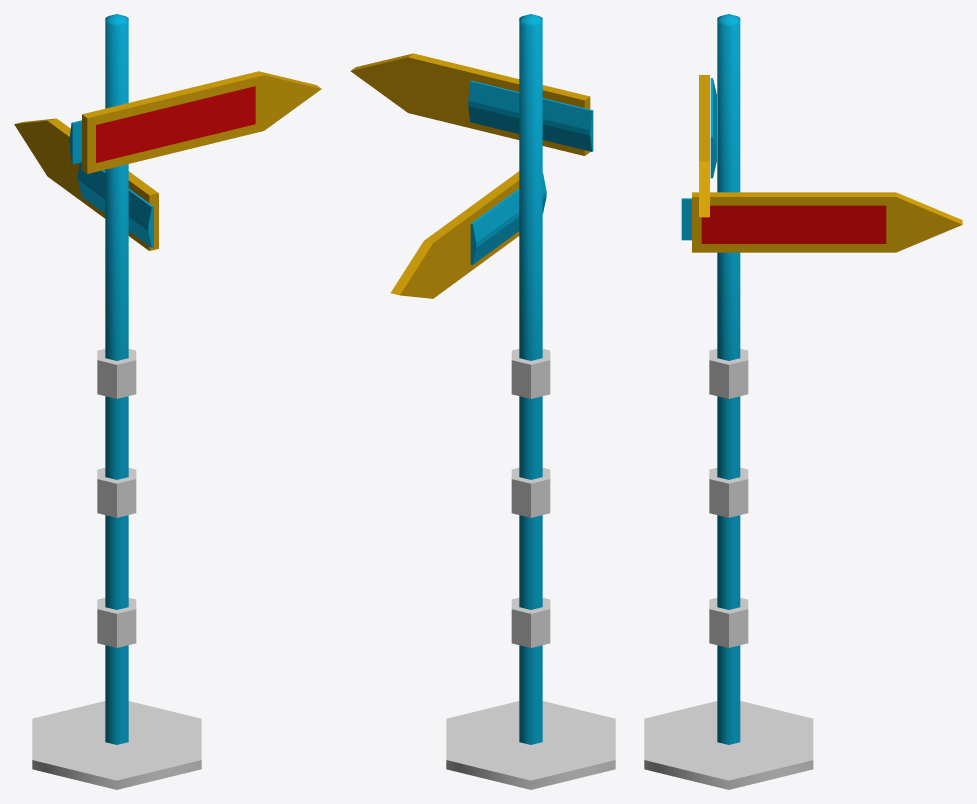
The model's file is Sign2_low.FBX.
The picture shows the model from 3 angles, left to right: view 1: azimuth 30°, elevation 25°; view 2: azimuth 150°, elevation 25°; view 3: azimuth 270°, elevation 25°; orthographic projection.
Visible parts, largest first — view 1: Cylinder001; view 2: Cylinder001; view 3: Cylinder001.
Boxes of the visible parts, <box> form: Cylinder001: <box>14,14,321,789</box>; Cylinder001: <box>350,14,615,789</box>; Cylinder001: <box>644,14,962,789</box>.
Size of the model in its own units: 56.33 by 144 by 56.57.
